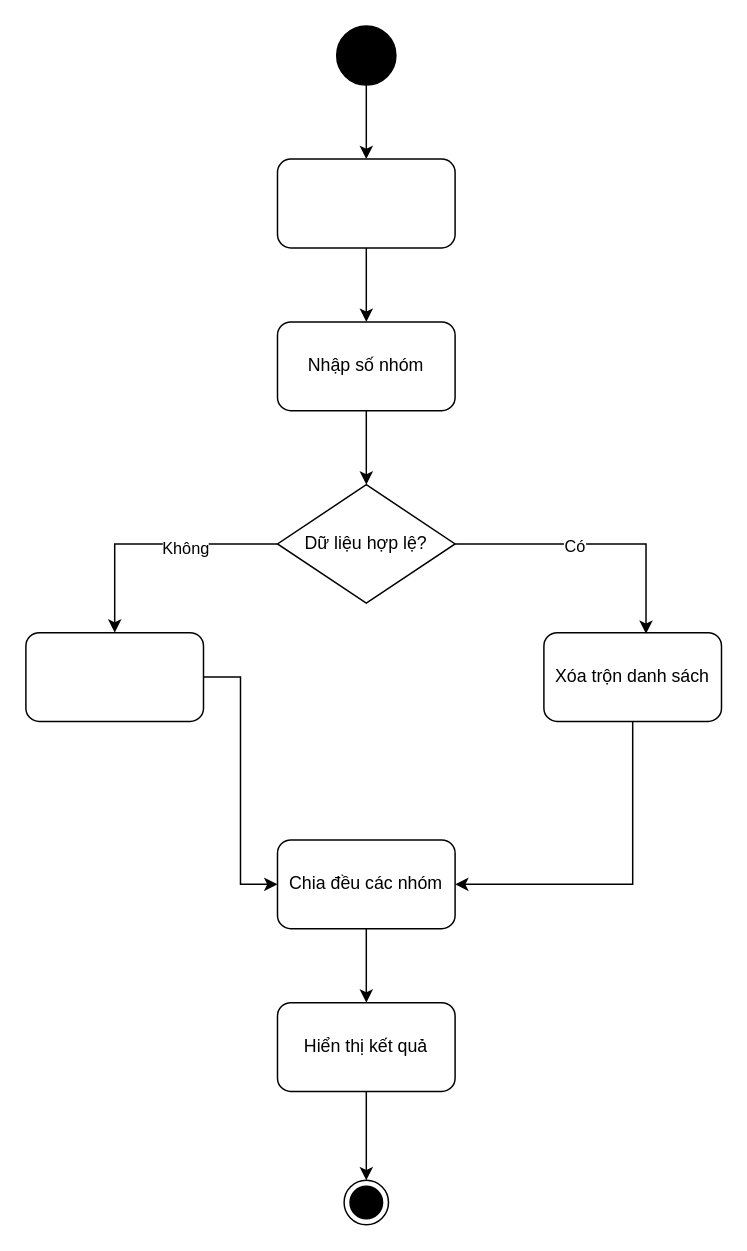
Some shapes in this 747 by 1251 pixel diagram are drawn without their labels. Each missing label, with the box of its shape:
Nhập danh sách sinh viên: (276, 158, 455, 248)
Thông báo lỗi: (24, 631, 204, 722)
